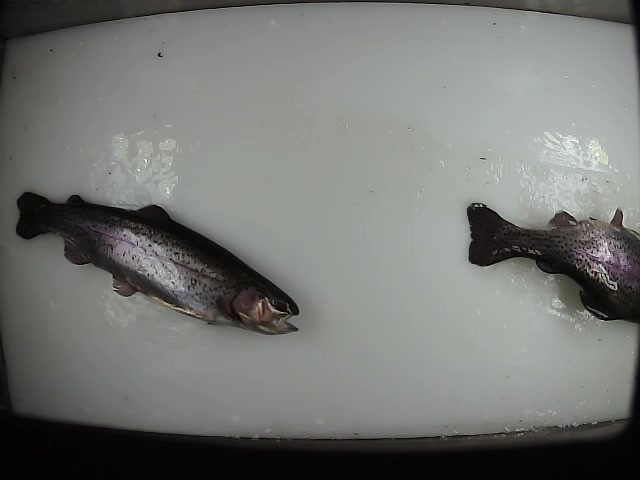Fish: (16, 191, 299, 334)
